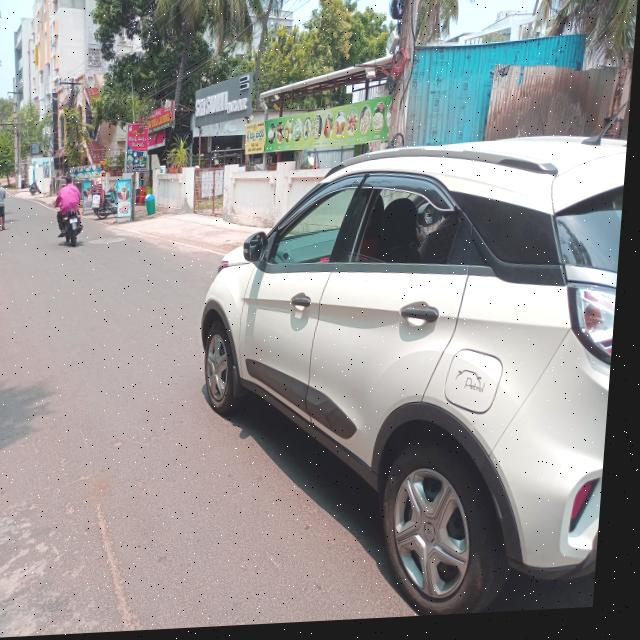bike: (54, 205, 90, 249), (29, 181, 45, 197)
car: (182, 131, 631, 631)
